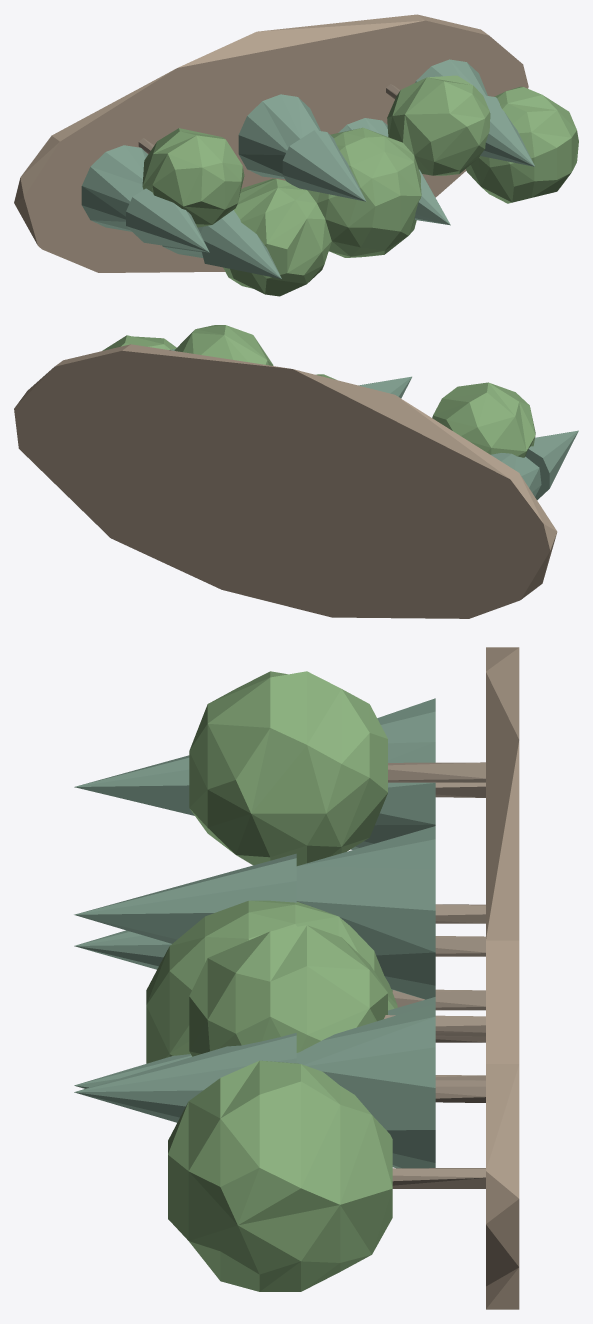
The model's file is r-115-wooded-turning-island.lod1.glb.
The picture shows the model from 3 angles, top to bottom: view 1: azimuth 30°, elevation 25°; view 2: azimuth 150°, elevation 25°; view 3: azimuth 270°, elevation 25°; orthographic projection. The views are drawn at different scales.
Parts seen in each view (by area): view 1: island-soil, hardwoods, pines; view 2: island-soil, hardwoods, pines; view 3: hardwoods, pines, island-soil, trunks.
Part boxes in pixels (x1,y1,x2,y2): island-soil: (14,14,528,272); hardwoods: (142,75,578,296); pines: (81,59,534,278); island-soil: (14,344,557,618); hardwoods: (102,325,535,457); pines: (169,349,578,500); hardwoods: (146,671,397,1291); pines: (74,698,435,1168); island-soil: (486,647,519,1309); trunks: (384,762,485,1188).
Bounding box in the file's own units: 41998 × 17833 × 16000.
